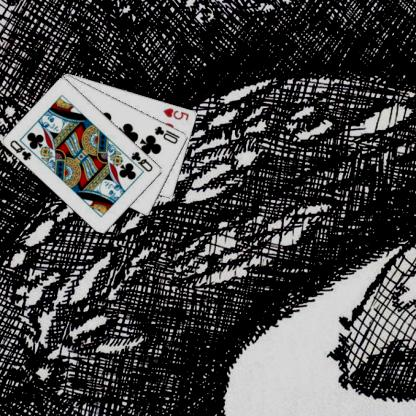10C: (152, 123, 181, 145)
5H: (161, 105, 190, 122)
QC: (7, 137, 33, 162), (128, 149, 154, 173)
